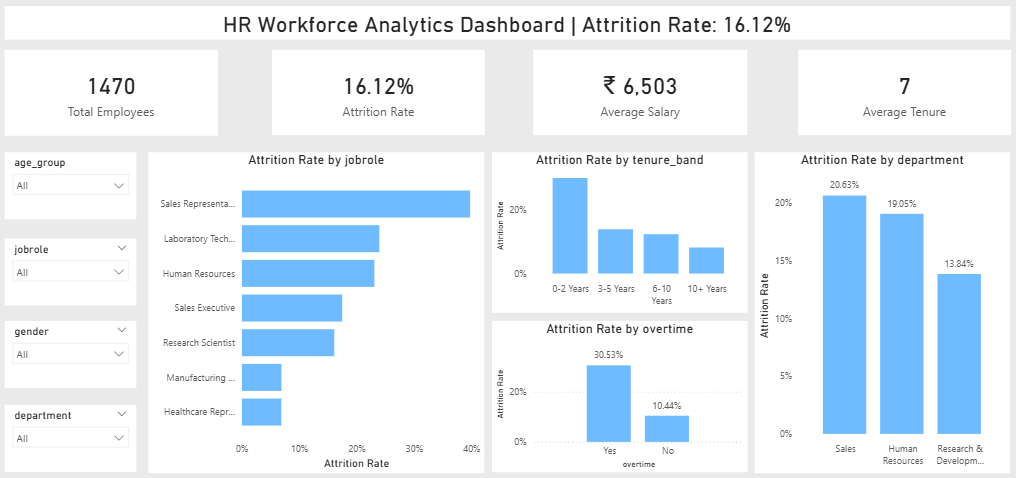

The dashboard page shown, as its layout file describes it:
{"tool":"powerbi","page":{"name":"Page 1","canvas":[1800,1000],"ordinal":0},"visuals":[{"type":"card","fields":{"Values":["hr_report.Total Employees"]},"box":[9.6,70,279.9,112.5],"z":0},{"type":"card","fields":{"Values":["hr_report.Attrition Rate"]},"box":[360.3,70.6,279.4,111.8],"z":1000},{"type":"card","fields":{"Values":["hr_report.Average Tenure"]},"box":[1050,70.6,279.4,111.8],"z":2000},{"type":"card","fields":{"Values":["hr_report.Average Salary"]},"box":[702.9,70.6,280.9,111.8],"z":3000},{"type":"clusteredColumnChart","fields":{"Category":["hr_report.department"],"Y":["hr_report.Attrition Rate"]},"box":[994.1,204.4,335.3,420.6],"z":5000},{"type":"clusteredBarChart","fields":{"Category":["hr_report.jobrole"],"Y":["hr_report.Attrition Rate"]},"box":[198.5,204.4,441.2,420.6],"z":6000},{"type":"columnChart","fields":{"Category":["hr_report.tenure_band"],"Y":["hr_report.Attrition Rate"]},"box":[648.5,204.4,335.3,210.3],"z":8000},{"type":"slicer","fields":{"Values":["hr_report.department"]},"box":[9.6,536.5,172.9,87.8],"z":9000},{"type":"slicer","fields":{"Values":["hr_report.gender"]},"box":[9.6,426.8,172.9,87.8],"z":10000},{"type":"slicer","fields":{"Values":["hr_report.jobrole"]},"box":[9.6,318.4,172.9,87.8],"z":11000},{"type":"slicer","fields":{"Values":["hr_report.age_group"]},"box":[9.6,204.5,172.9,87.8],"z":12000},{"type":"columnChart","fields":{"Category":["hr_report.overtime"],"Y":["hr_report.Attrition Rate"]},"box":[648.5,426.5,335.3,198.5],"z":12001},{"type":"card","fields":{"Values":["hr_report.Dashboard Title"]},"box":[10.3,13.2,1319.1,44.1],"z":12002}]}

Visuals, with their boxes on the page's 1800x1000 design canvas (x1, y1, x2, y2). These are canvas units, not pixel positions in the 1016x478 screenshot, which may show the page scaled, cropped or inside an application window:
card - hr_report.Total Employees: Rect(10, 70, 290, 182)
card - hr_report.Attrition Rate: Rect(360, 71, 640, 182)
card - hr_report.Average Tenure: Rect(1050, 71, 1329, 182)
card - hr_report.Average Salary: Rect(703, 71, 984, 182)
clusteredColumnChart - hr_report.department x hr_report.Attrition Rate: Rect(994, 204, 1329, 625)
clusteredBarChart - hr_report.jobrole x hr_report.Attrition Rate: Rect(198, 204, 640, 625)
columnChart - hr_report.tenure_band x hr_report.Attrition Rate: Rect(648, 204, 984, 415)
slicer - hr_report.department: Rect(10, 536, 182, 624)
slicer - hr_report.gender: Rect(10, 427, 182, 515)
slicer - hr_report.jobrole: Rect(10, 318, 182, 406)
slicer - hr_report.age_group: Rect(10, 204, 182, 292)
columnChart - hr_report.overtime x hr_report.Attrition Rate: Rect(648, 426, 984, 625)
card - hr_report.Dashboard Title: Rect(10, 13, 1329, 57)
